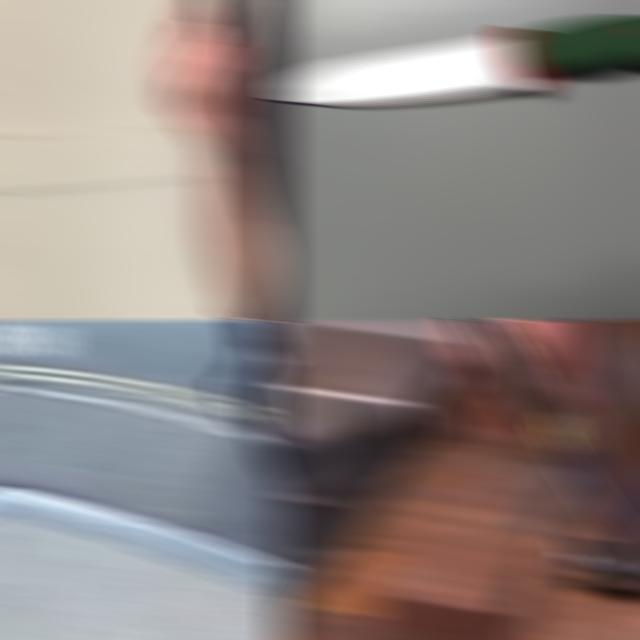Knife: (435, 320, 640, 640), (272, 15, 640, 105), (558, 536, 640, 640)
Knife_Handle: (158, 0, 248, 163)
